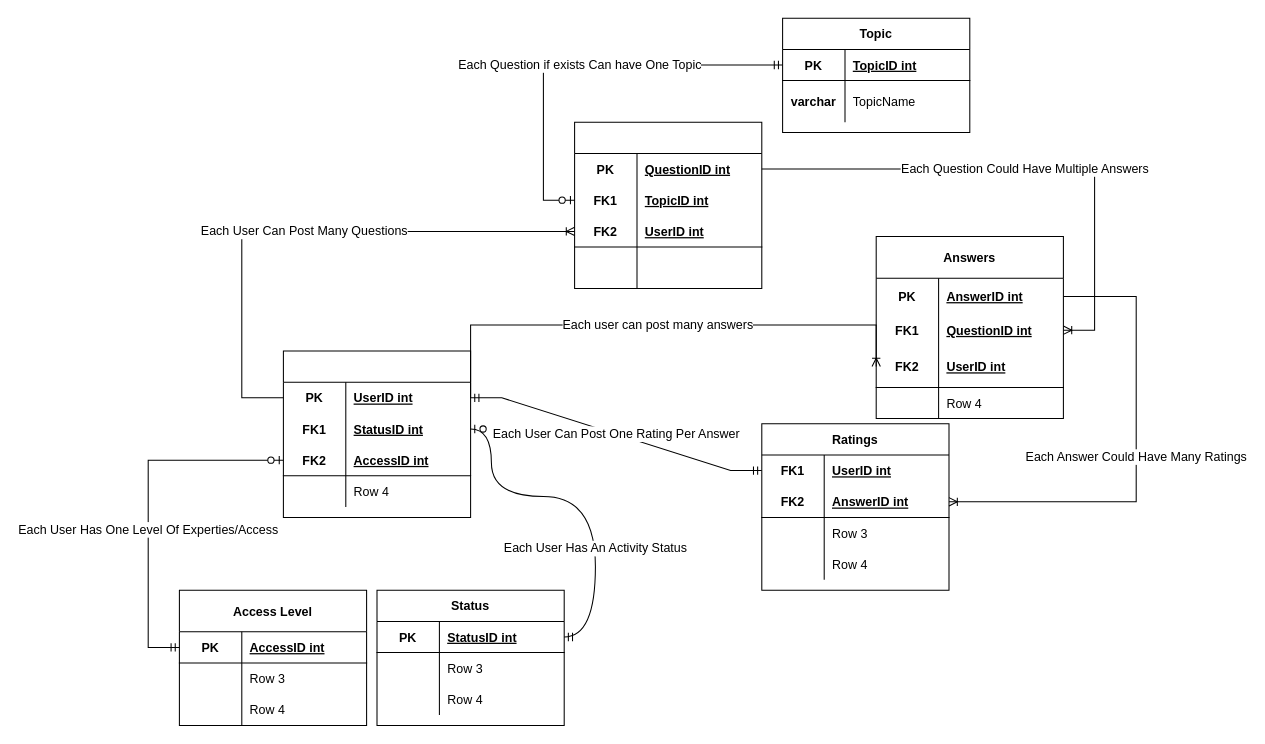
This 1265x744 diagram has some shape labels left out. The shapes that lost their labels are listed below. From the top down, each one's box as (x1, y1, x2, y2) in pixels, then its label:
(574, 121, 762, 289): Questions
(282, 350, 471, 517): Users
